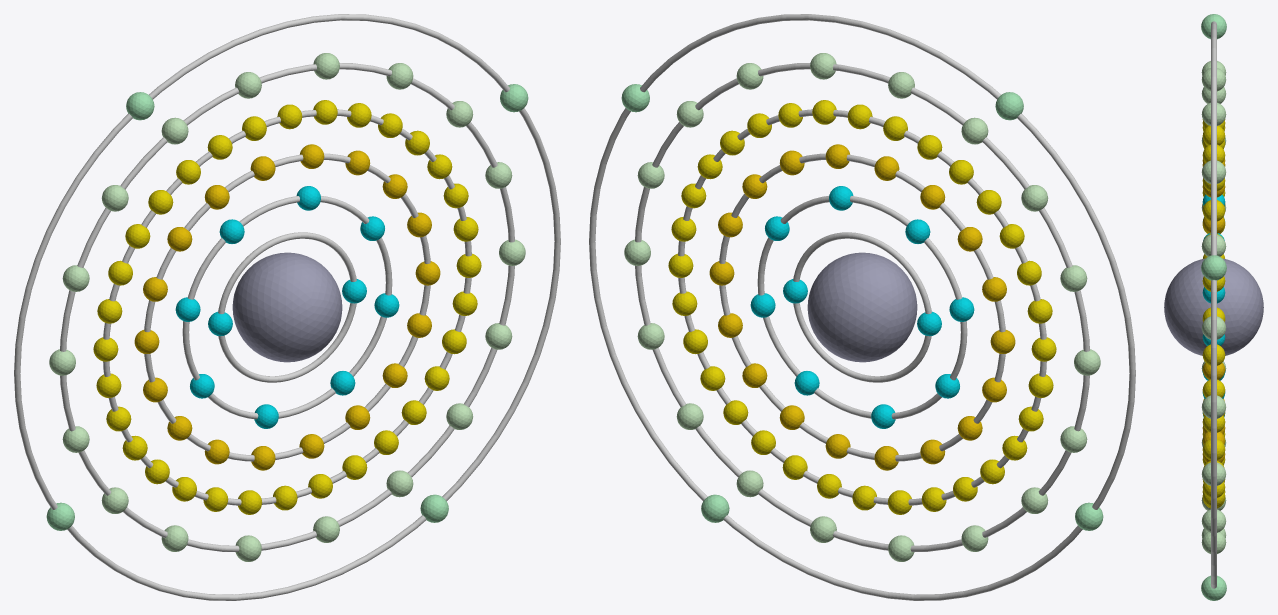
3 renders of one model, left to right at view 1: azimuth 30°, elevation 25°; view 2: azimuth 150°, elevation 25°; view 3: azimuth 270°, elevation 25°, orthographic. The views are drawn at different scales.
Visible parts, largest first — view 1: world; view 2: world; view 3: world.
Boxes of the visible parts, x1,y1,x2,y2 form: world: (14,14,560,600); world: (589,14,1135,600); world: (1164,14,1263,600).
Bounding box in the file's own units: 2.53 × 2.53 × 0.44.
